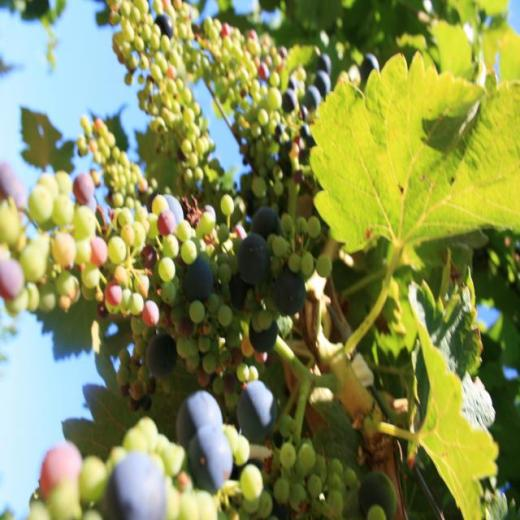Orange: (0, 0, 395, 519)
